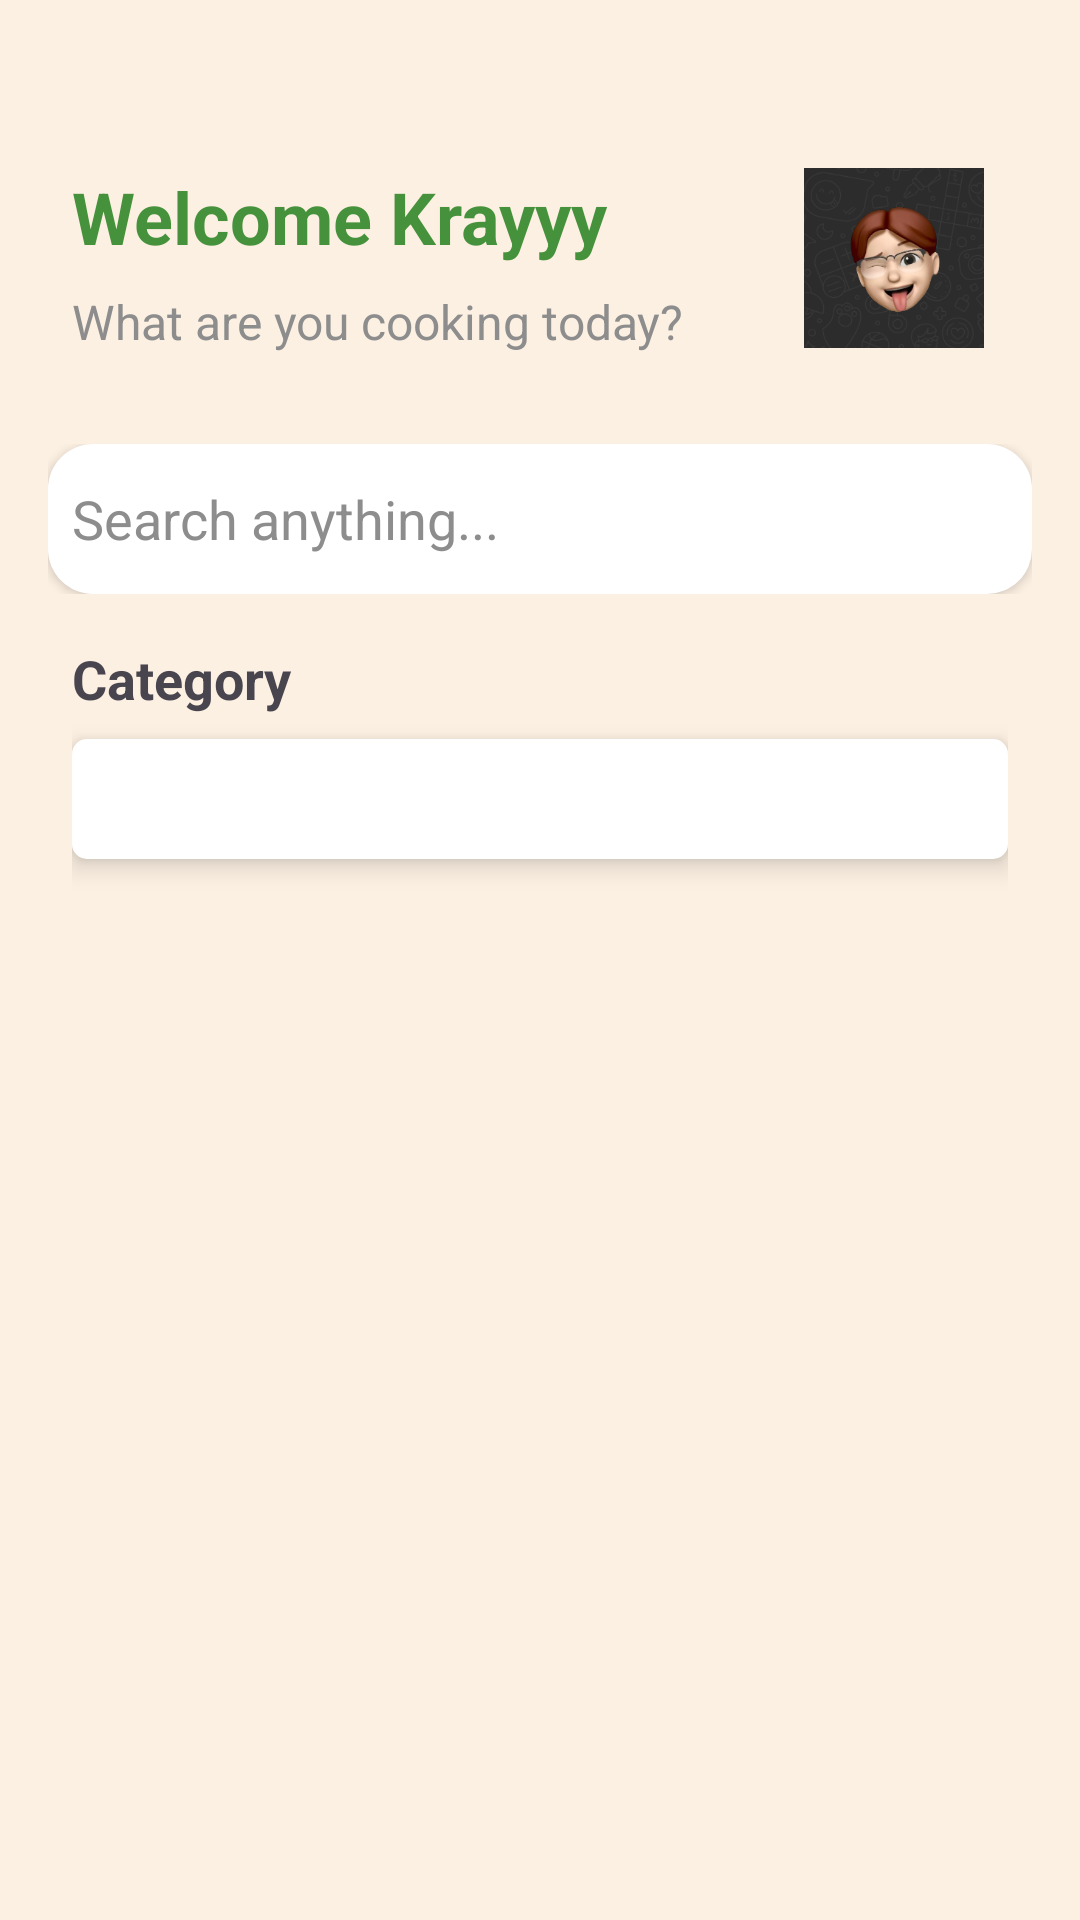

Where to tap for icons on this 1080x1920 app screen, as point (x, y):
profilepic: point (894, 258)
